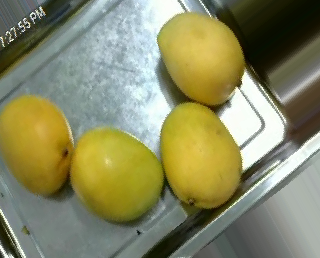Mango: (72, 123, 164, 223), (162, 104, 244, 208), (158, 11, 245, 102), (0, 95, 70, 198)
